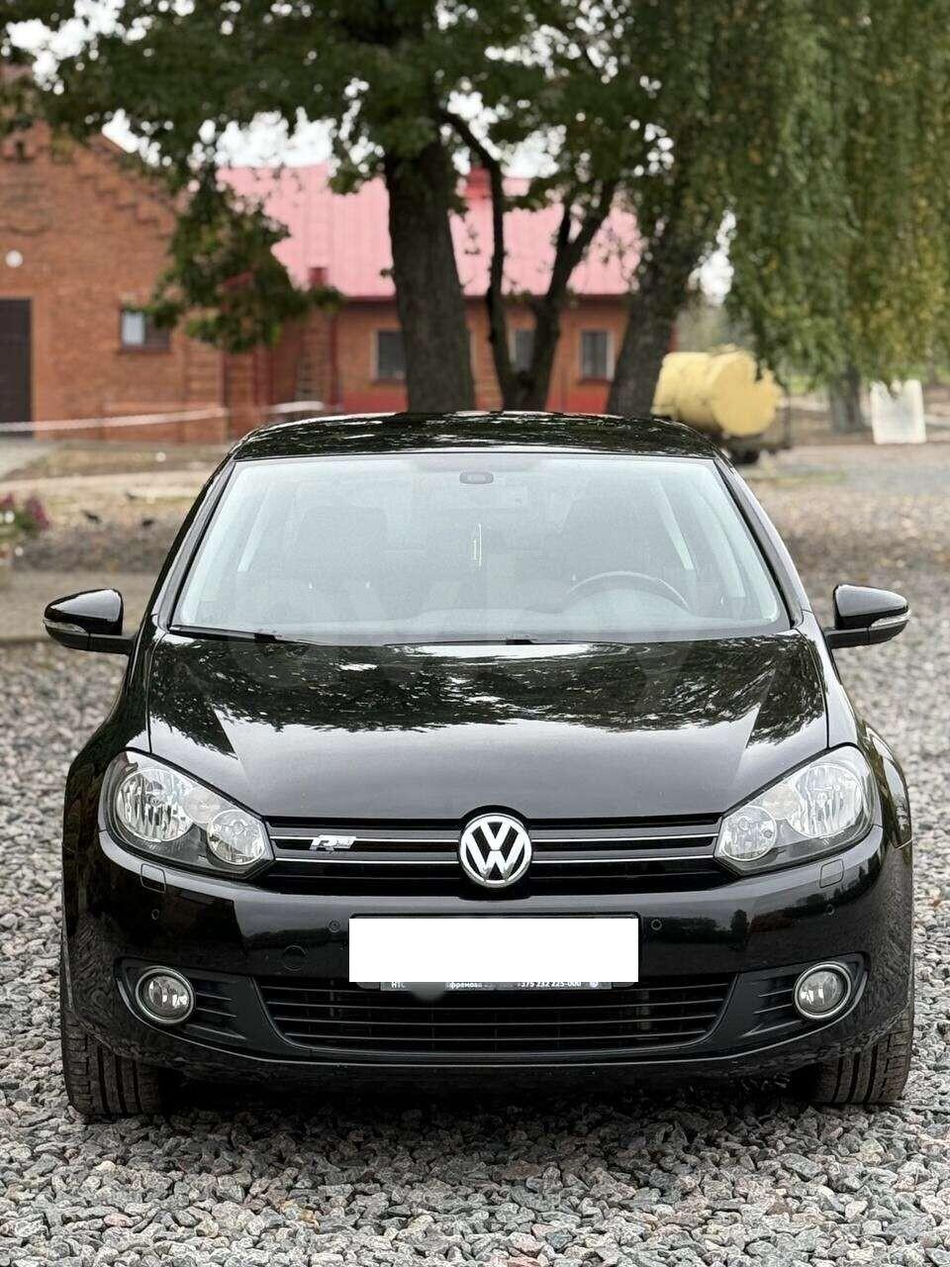Golf_2008-2013: (49, 409, 934, 1138)
